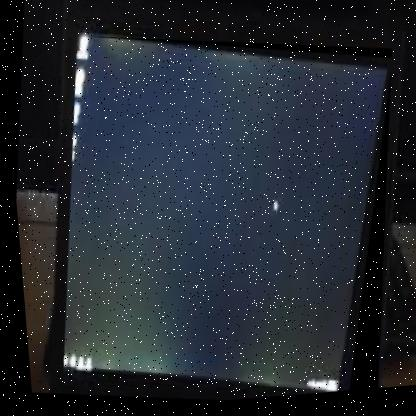fade: (34, 16, 414, 413)
